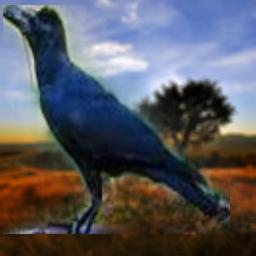Crow: (3, 5, 230, 234)
